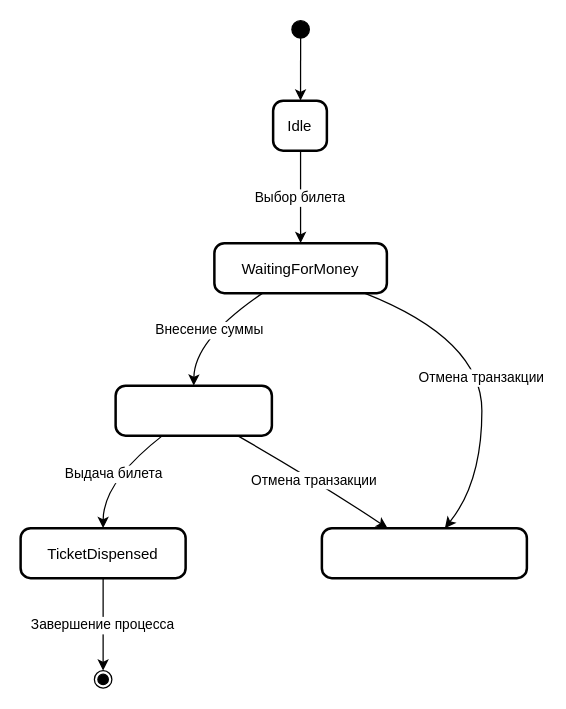
Image size: 566x709. Some labels were removed from this diagram. Here are the shapes that lost their labels. From the top down, the centre of each, then its label:
pixel 193 410: MoneyReceived
pixel 424 552: TransactionCanceled
